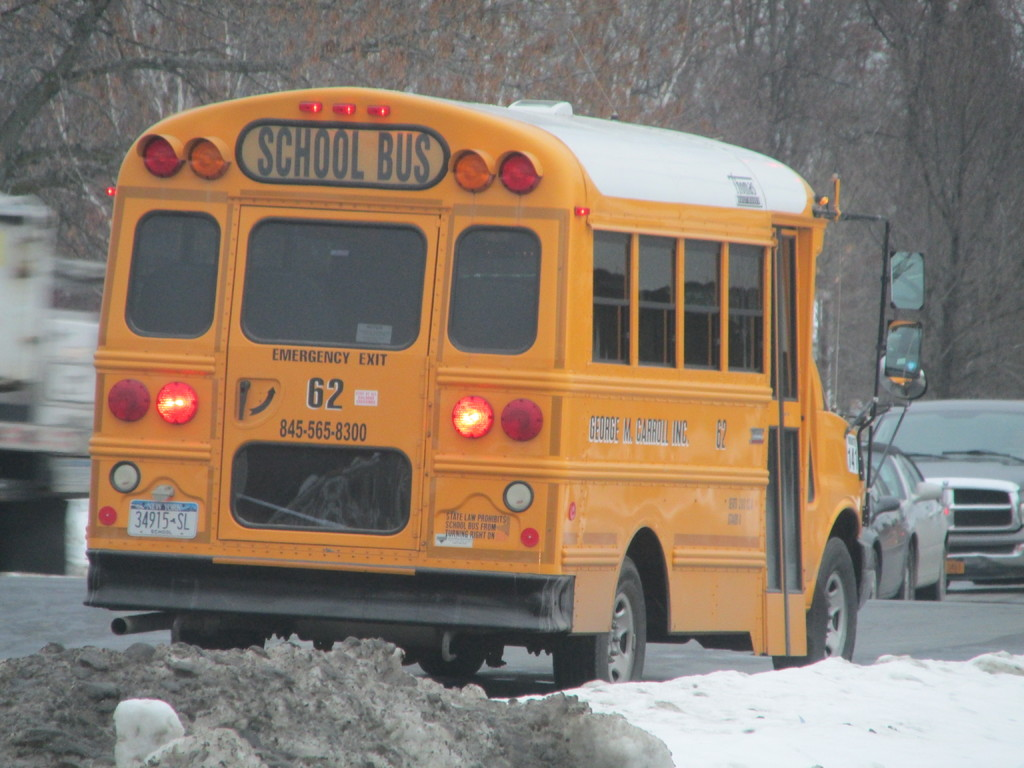Bus: (80, 85, 928, 685)
